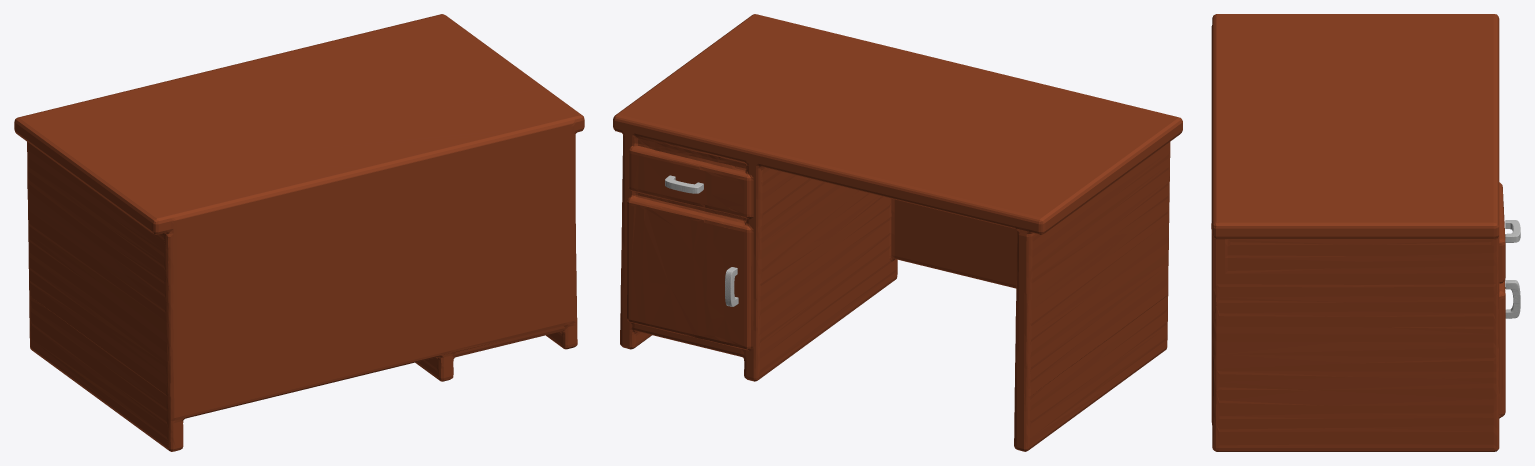
File: schreibtisch_2.glb
The picture shows the model from 3 angles, left to right: view 1: azimuth 30°, elevation 25°; view 2: azimuth 150°, elevation 25°; view 3: azimuth 270°, elevation 25°; orthographic projection.
Parts seen in each view (by area): view 1: 282367_23_05_24_18_12_22_3; view 2: 282367_23_05_24_18_12_22_3; view 3: 282367_23_05_24_18_12_22_3, 282367_23_05_24_18_12_22_2, 282367_23_05_24_18_12_22_1.
Part boxes in pixels (x1,y1,x2,y2): 282367_23_05_24_18_12_22_3: (14,14,584,451); 282367_23_05_24_18_12_22_3: (613,14,1182,451); 282367_23_05_24_18_12_22_3: (1211,14,1505,451); 282367_23_05_24_18_12_22_2: (1505,280,1520,318); 282367_23_05_24_18_12_22_1: (1505,220,1520,242).
Bounding box in the file's own units: 8.55 × 4.49 × 5.26.
Materials: 3 (3 with a texture image).
